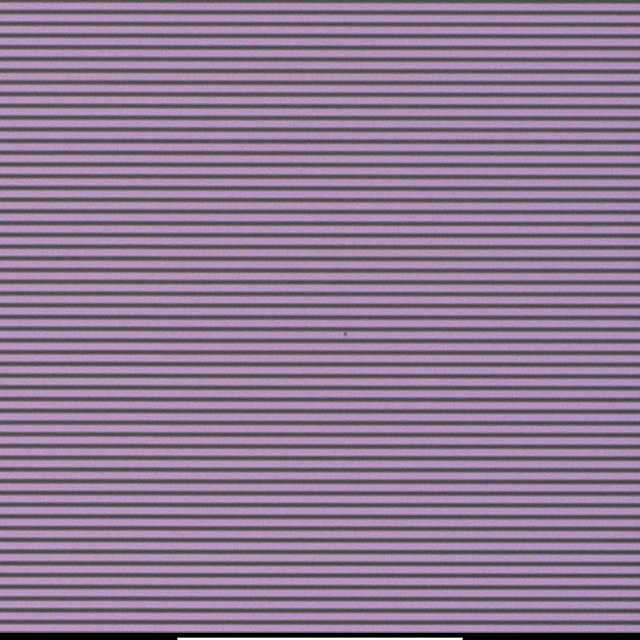nonvisual: (341, 327, 350, 340)
